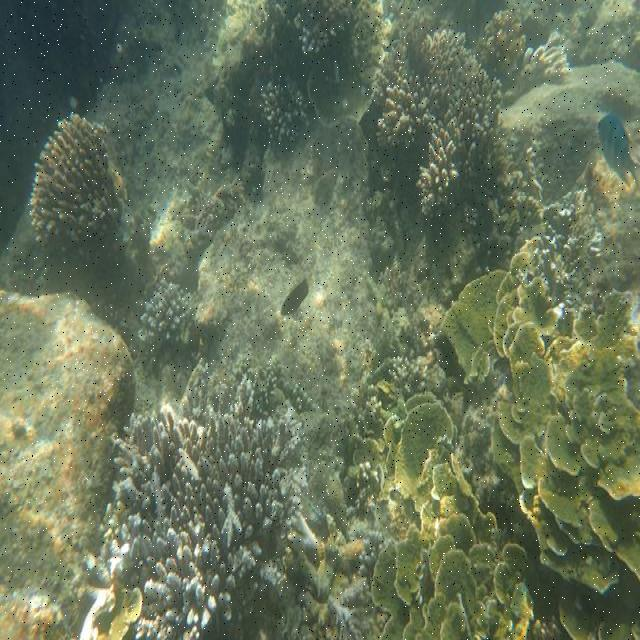fish: (598, 116, 639, 185), (281, 273, 319, 314)
reefs: (434, 235, 639, 591), (94, 358, 310, 637), (371, 396, 543, 638), (368, 28, 529, 216), (28, 115, 124, 242), (508, 30, 573, 99), (260, 75, 311, 143), (136, 281, 191, 343), (90, 584, 140, 637)
sea-floor: (0, 292, 135, 636)
